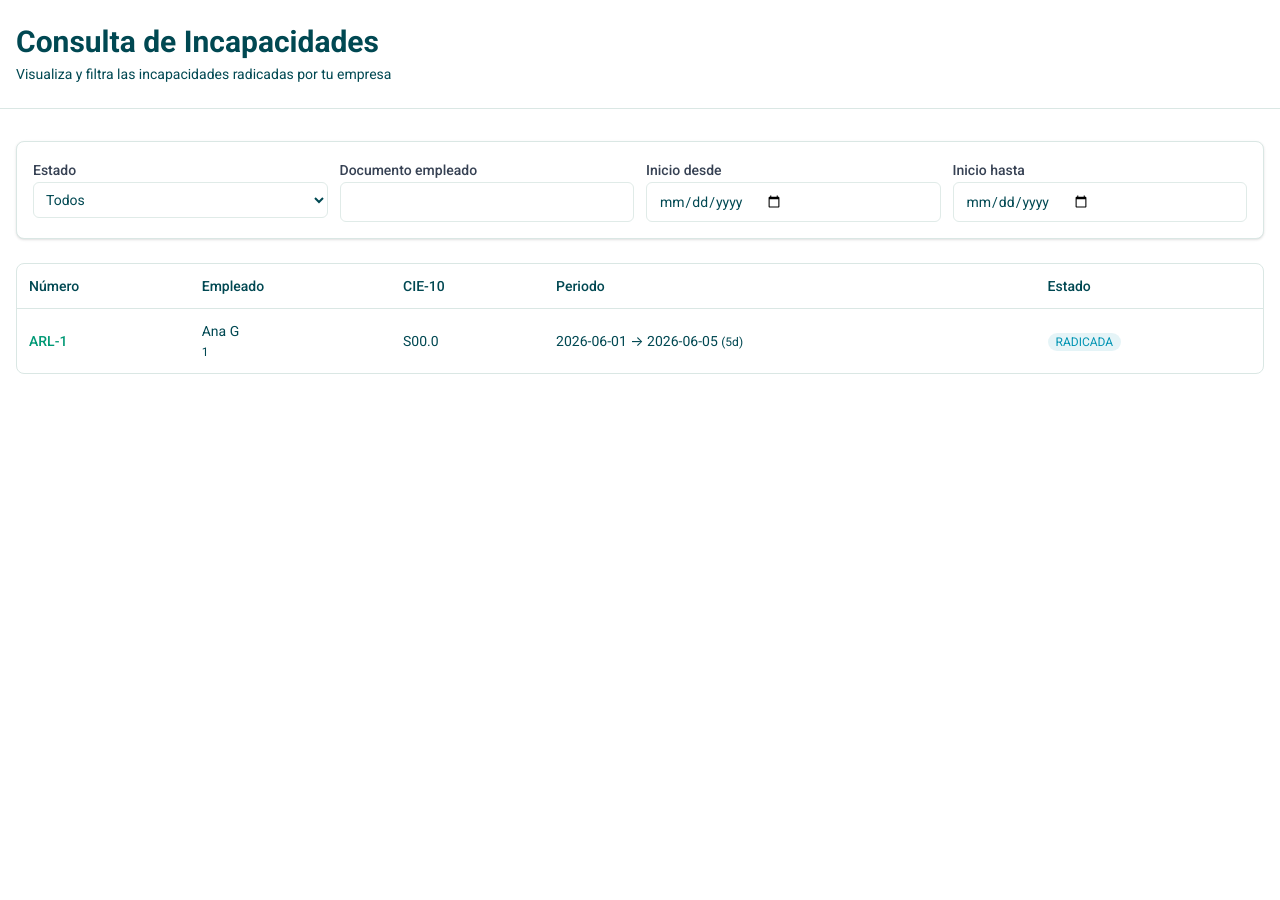
Test case: ConsultaEmpresa › opens the detail drawer on row click and closes on Escape
Click the cell "ARL-1" at (48, 341), box [17, 308, 190, 373]
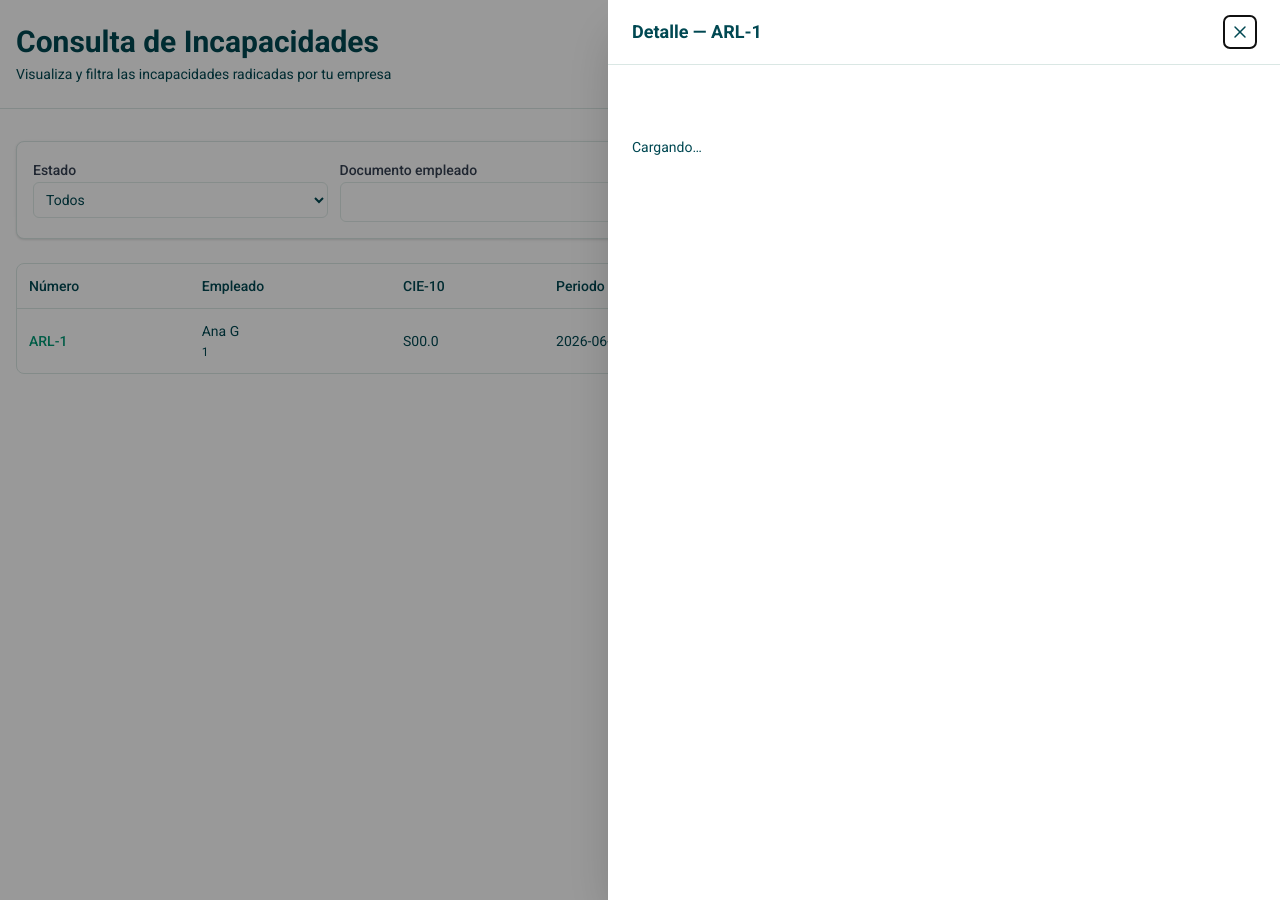
Check: the dialog is shown, box [608, 0, 1279, 899]
// Escape should close the drawer — wrap in act to flush state update
Press Escape
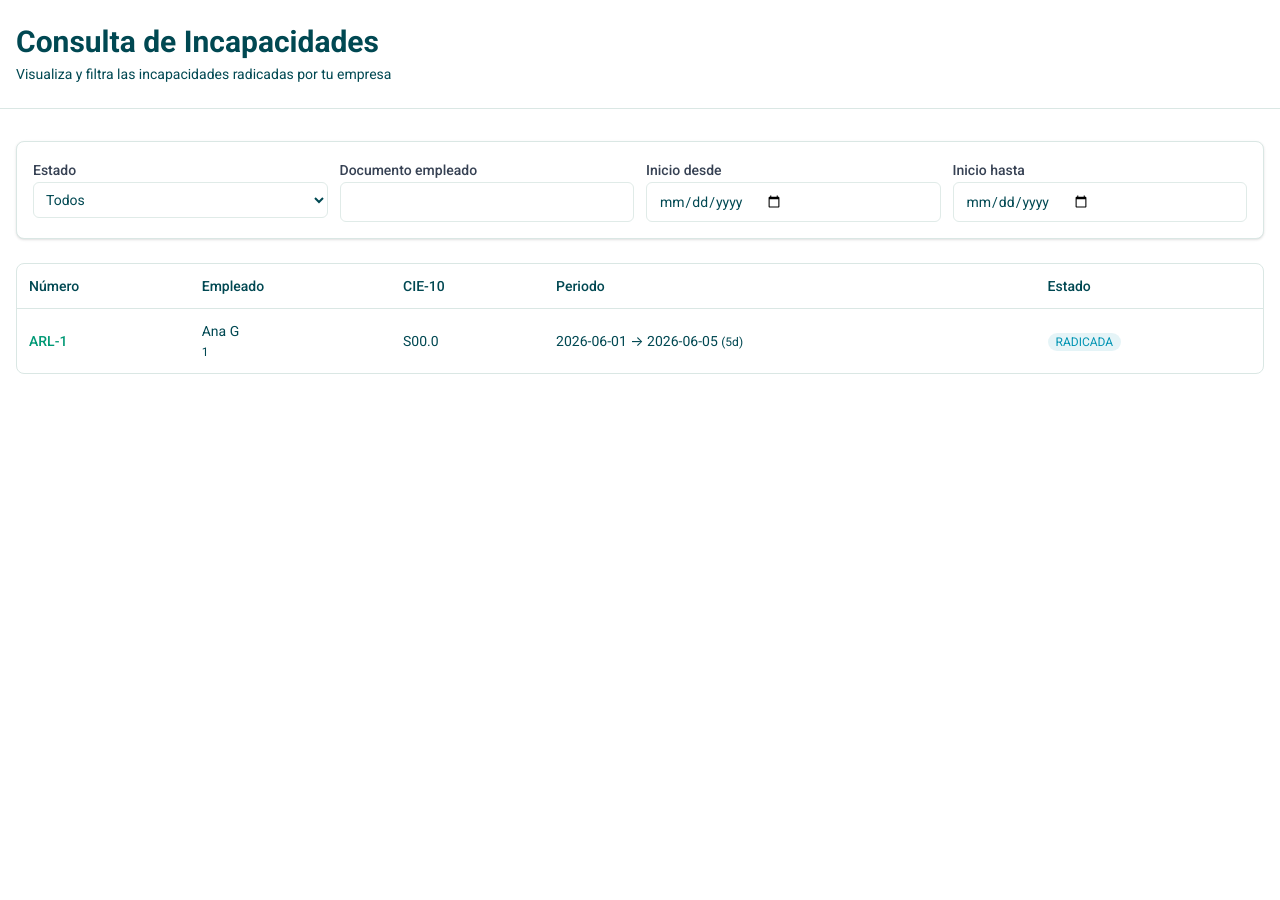
Check: the dialog is gone
